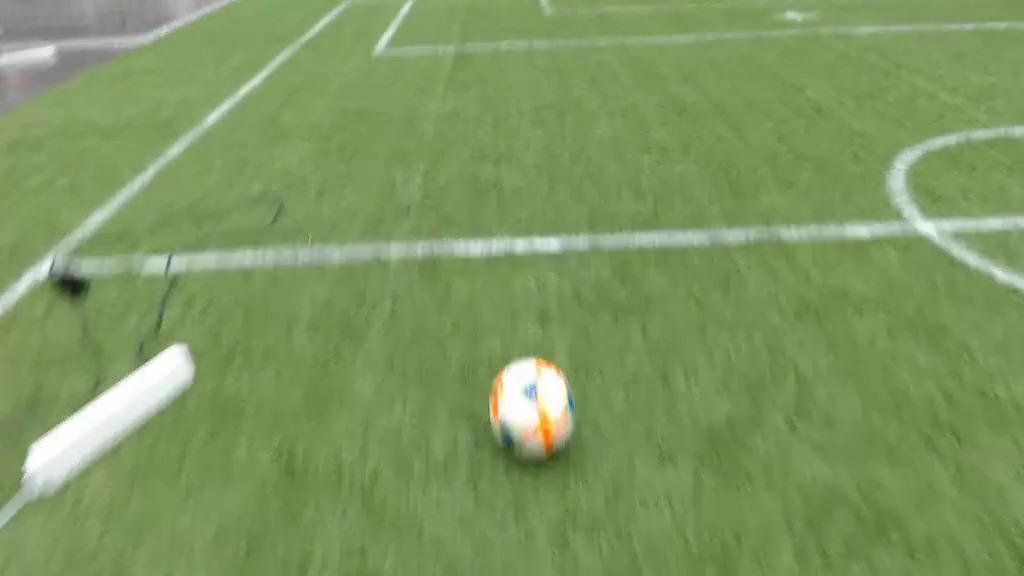ball: (490, 358, 577, 460)
